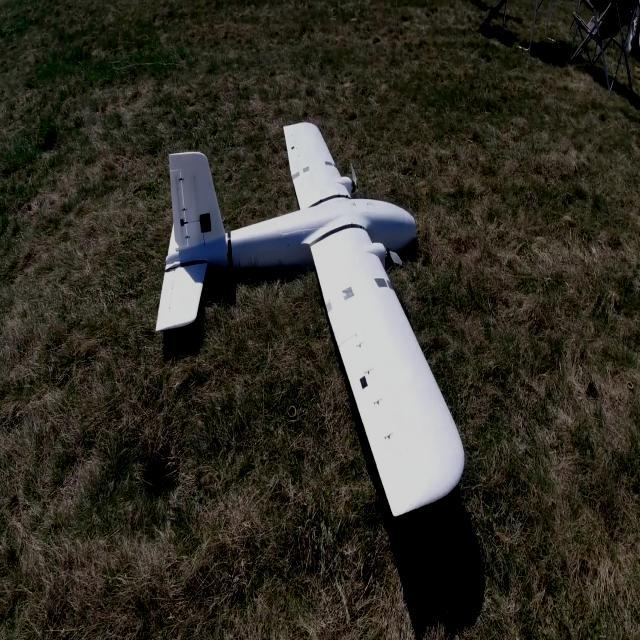iha: (145, 104, 470, 532)
